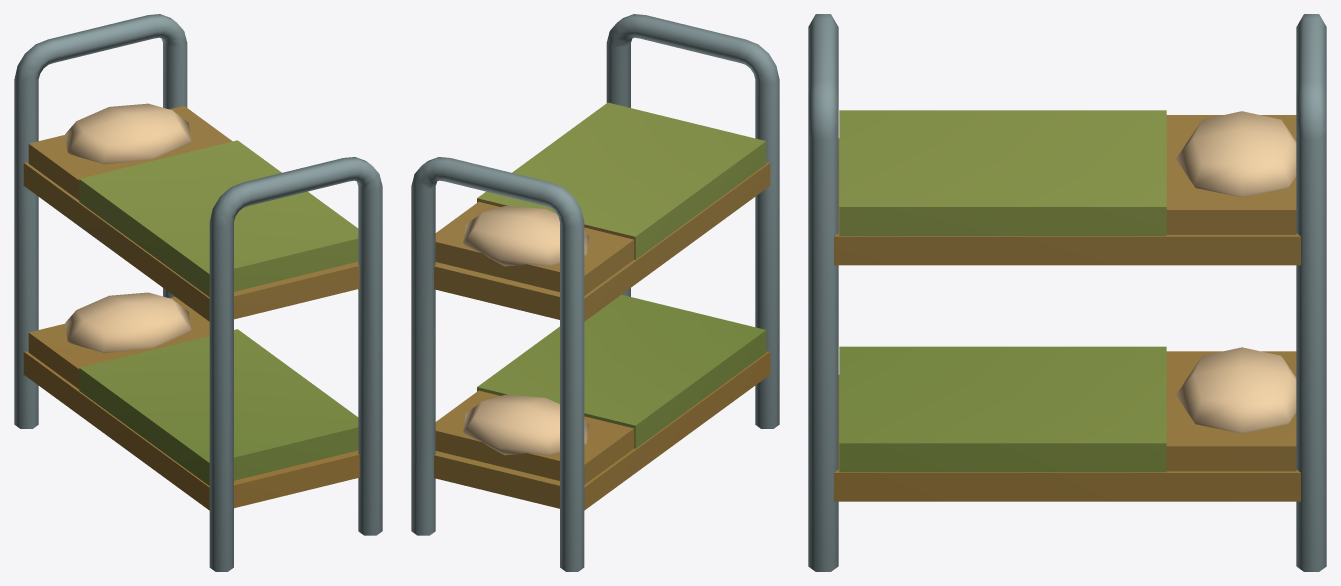
Rendered from Bed2.fbx.
The picture shows the model from 3 angles, left to right: view 1: azimuth 30°, elevation 25°; view 2: azimuth 150°, elevation 25°; view 3: azimuth 270°, elevation 25°; orthographic projection. The views are drawn at different scales.
Parts seen in each view (by area): view 1: Bed2; view 2: Bed2; view 3: Bed2.
Part boxes in pixels (x1=…): Bed2: x1=14, y1=14, x2=382, y2=571; Bed2: x1=411, y1=14, x2=779, y2=571; Bed2: x1=808, y1=14, x2=1326, y2=571.
Size of the model in its own units: 94.58 by 204 by 204.
